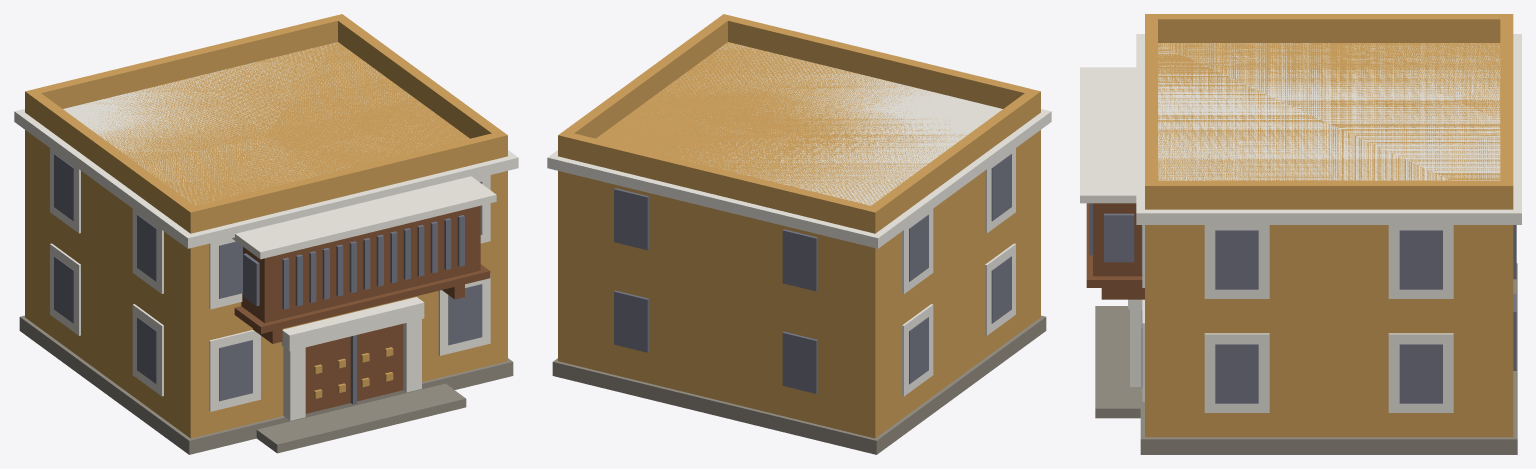
The model's file is house-1x1-2f-quincha-a.glb.
3 renders of one model, left to right at view 1: azimuth 30°, elevation 25°; view 2: azimuth 150°, elevation 25°; view 3: azimuth 270°, elevation 25°, orthographic. The views are drawn at different scales.
Visible parts, largest first — view 1: house-1x1-2f-quincha-a; view 2: house-1x1-2f-quincha-a; view 3: house-1x1-2f-quincha-a.
Part boxes in pixels (x1,y1,x2,y2): house-1x1-2f-quincha-a: (14,14,518,454); house-1x1-2f-quincha-a: (547,14,1051,454); house-1x1-2f-quincha-a: (1080,14,1521,454).
Bounding box in the file's own units: 0.98 × 0.68 × 1.02.
1 material, 1 textured.
